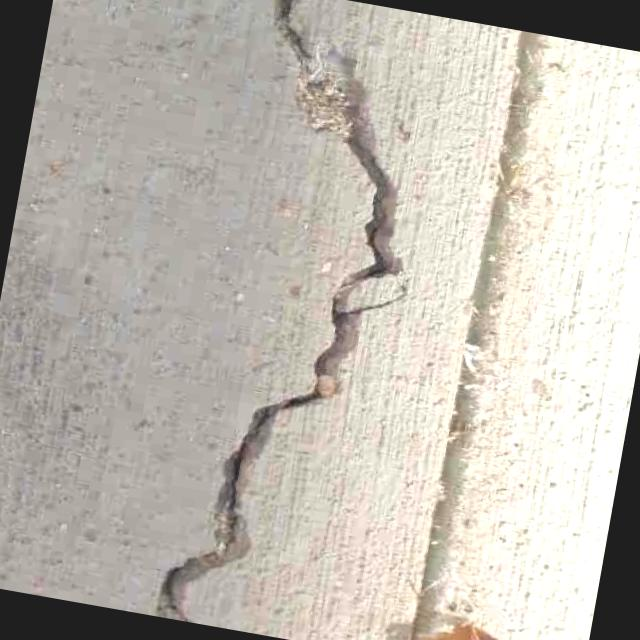crack: (139, 0, 464, 640)
